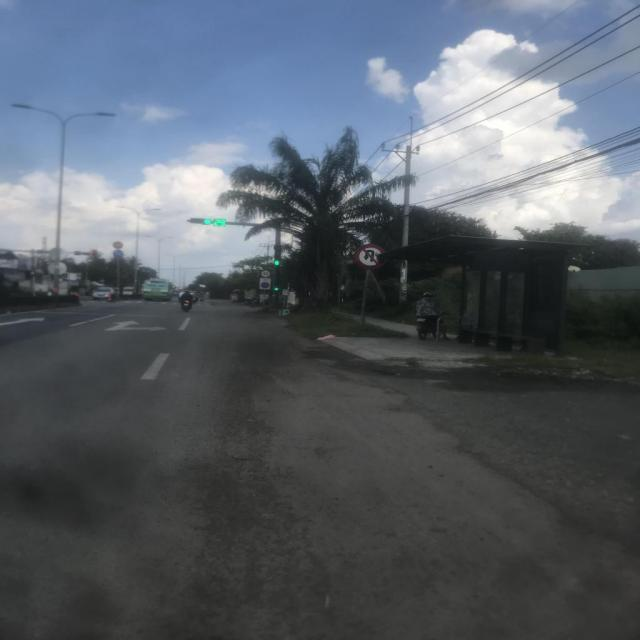cam_do_xe: (262, 282, 270, 288)
cam_o_to_quay_dau_xe: (354, 244, 388, 269)
cam_xe_di_nguoc_chieu: (113, 242, 124, 249)
huong_phai_di_vuot_chuong_ngai_vat_phai: (113, 250, 123, 257)
toc_do_toi_da_60: (260, 270, 271, 278)
